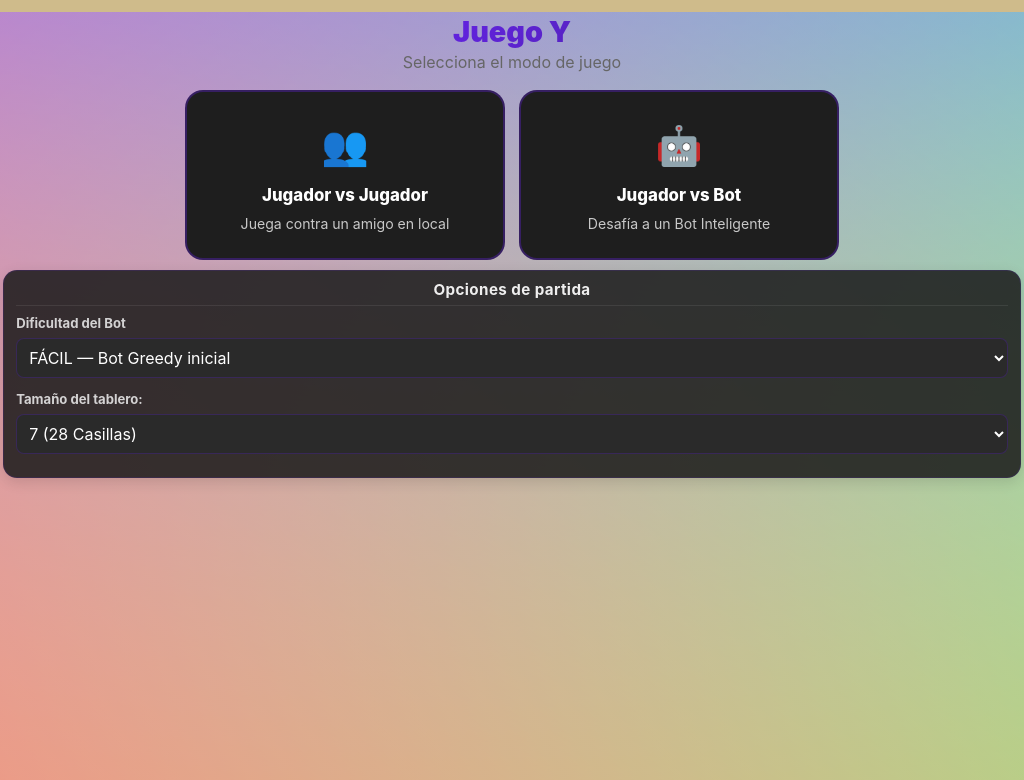
GameBoard › prevents clicking occupied cells
Click the button "👥 Jugador vs Jugador Juega contra un amigo en local".
click(345, 145)  # box [185,90,505,260]
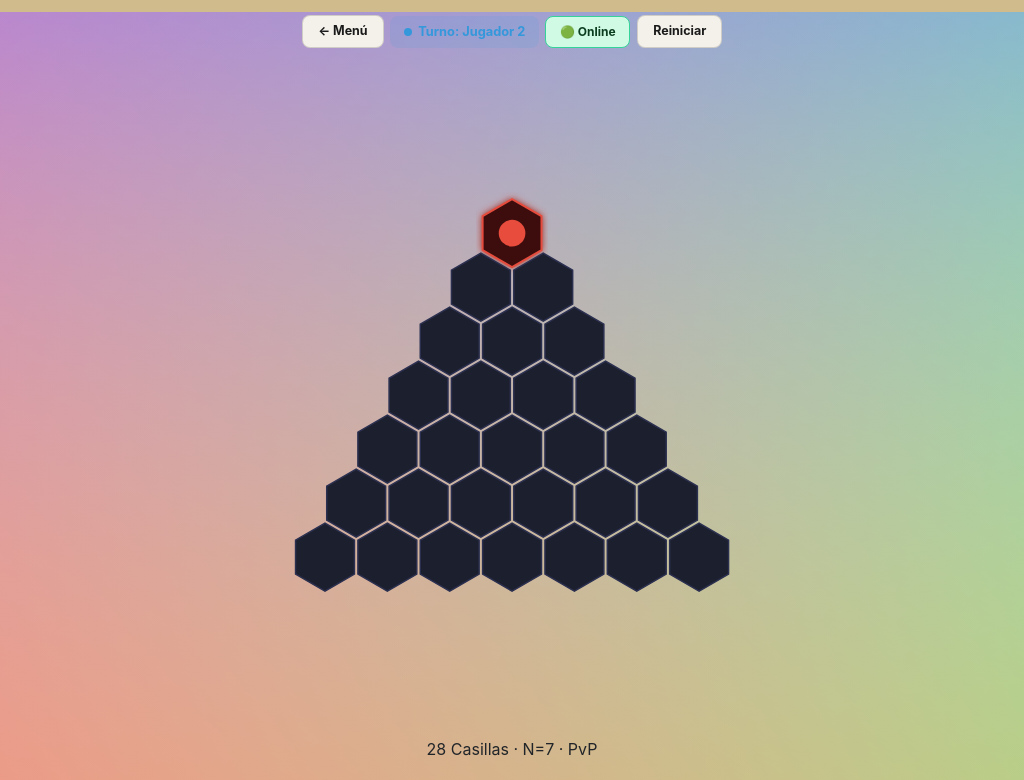
Expected: the element with class "gb-piece" is shown, [499,220,525,247]
Result: the text "🟢 Online" is shown at [545,16,630,48]
